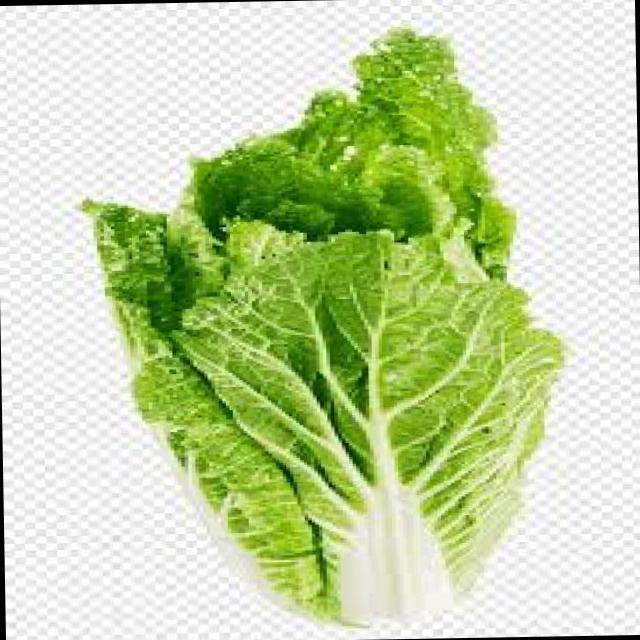Lettuce-Ready-to-Harvest: (83, 28, 563, 620)
